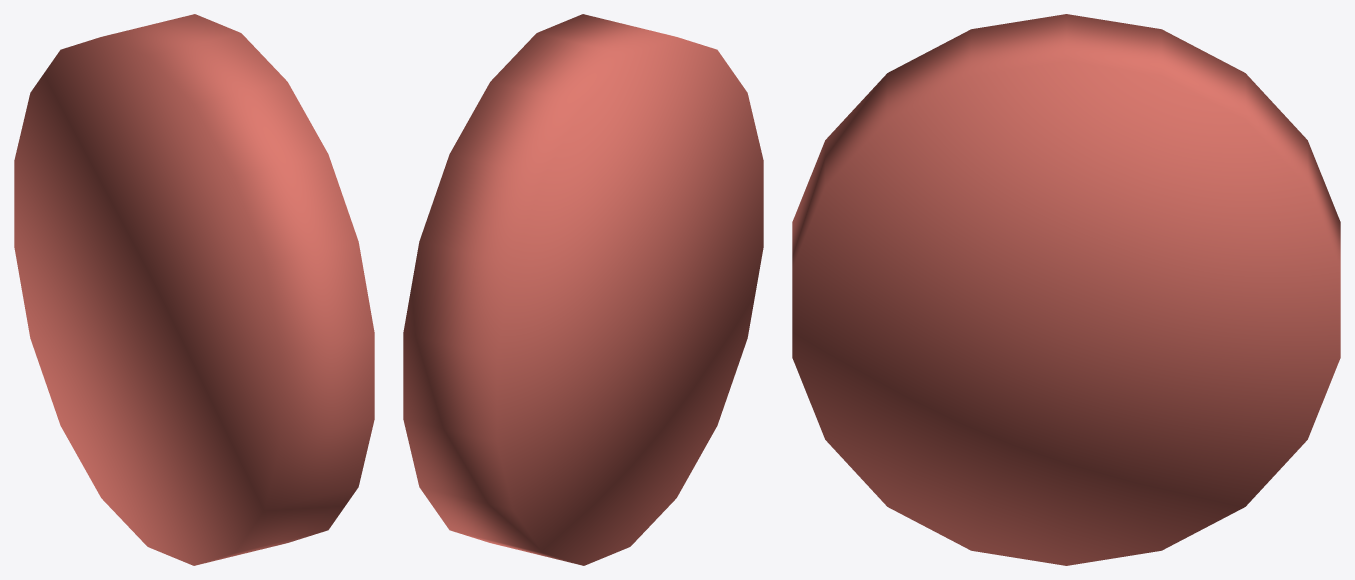
Rendered from signal_red.glb.
3 views of the same model, side by side, from view 1: azimuth 30°, elevation 25°; view 2: azimuth 150°, elevation 25°; view 3: azimuth 270°, elevation 25° (orthographic). The views are drawn at different scales.
Parts seen in each view (by area): view 1: signal_red_0; view 2: signal_red_0; view 3: signal_red_0.
Boxes of the visible parts, x1,y1,x2,y2 form: signal_red_0: (14,14,374,565); signal_red_0: (403,14,763,565); signal_red_0: (792,14,1340,565).
Bounding box in the file's own units: 0.06 × 0.3 × 0.2954.
